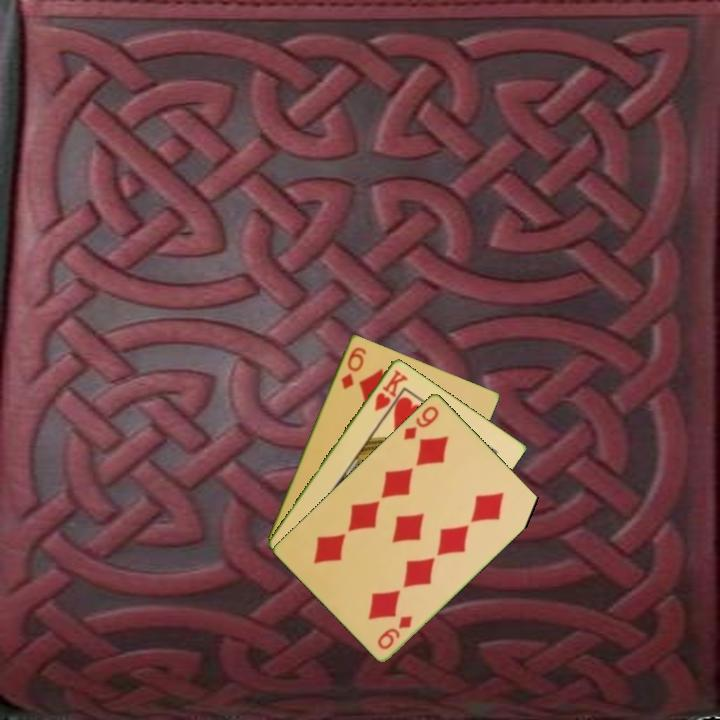6d: (337, 343, 369, 392)
9d: (400, 402, 442, 443), (374, 612, 415, 652)
Kh: (371, 366, 410, 414)
